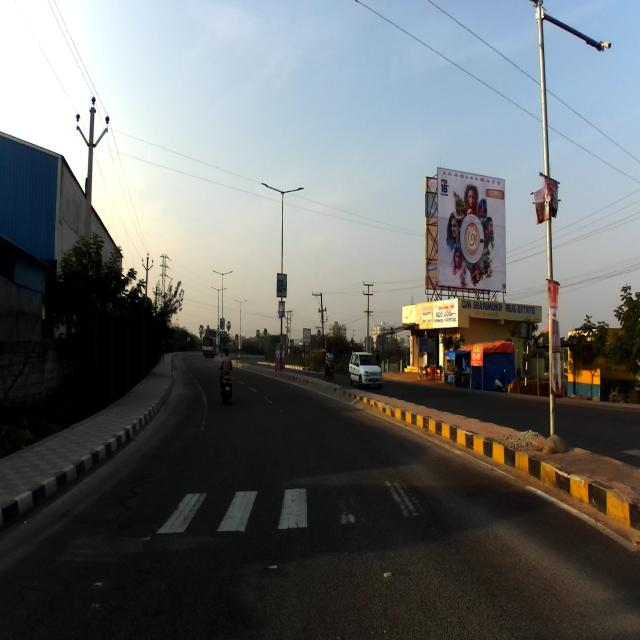zebra crossing ahead at: (140, 465, 425, 546)
